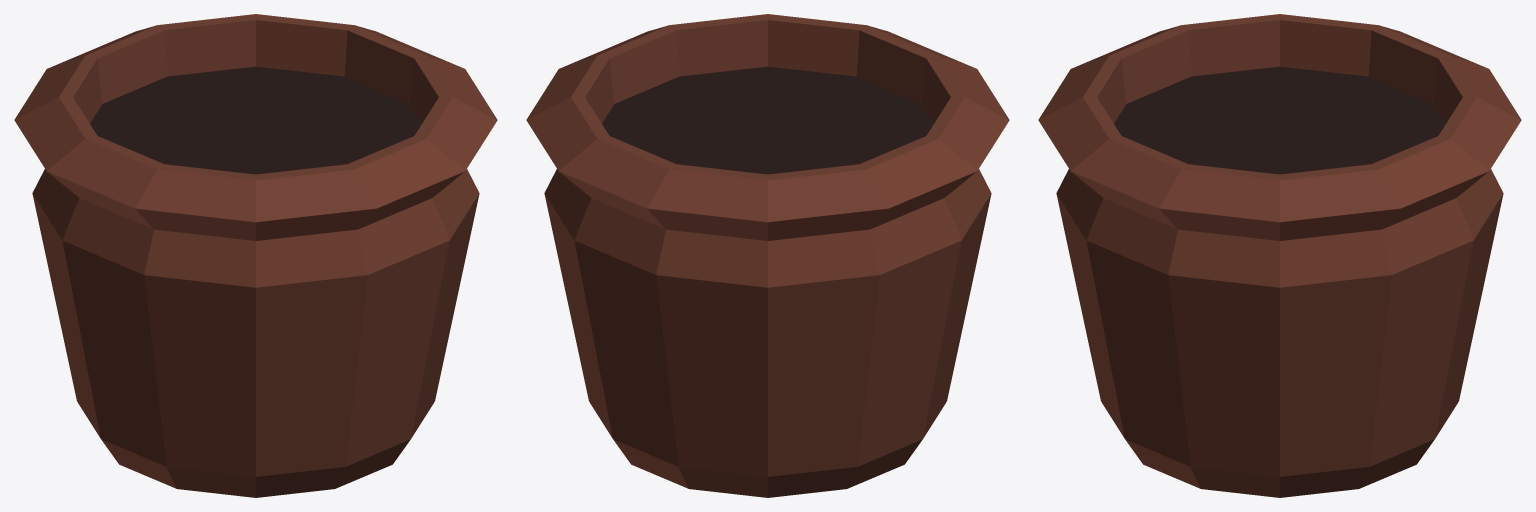
The model's file is MBJ_PlantPack01_Pot04_LOD2_v001.fbx.
3 views of the same model, side by side, from view 1: azimuth 30°, elevation 25°; view 2: azimuth 150°, elevation 25°; view 3: azimuth 270°, elevation 25° (orthographic).
Parts seen in each view (by area): view 1: PlantPot04_B.001; view 2: PlantPot04_B.001; view 3: PlantPot04_B.001.
Part boxes in pixels (box(x1,y1,x2,y2)): PlantPot04_B.001: box(14, 14, 497, 497); PlantPot04_B.001: box(526, 14, 1009, 497); PlantPot04_B.001: box(1038, 14, 1521, 497).
Size of the model in its own units: 59.89 by 45.65 by 59.89.
